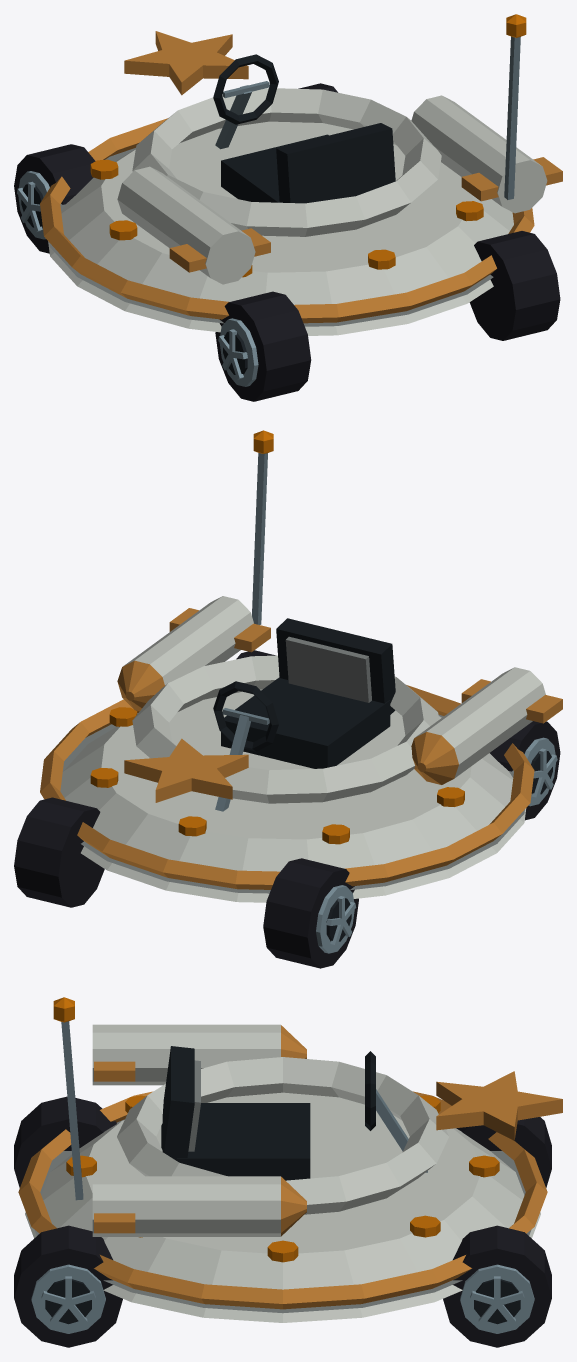
The model's file is kart.glb.
The picture shows the model from 3 angles, top to bottom: view 1: azimuth 30°, elevation 25°; view 2: azimuth 150°, elevation 25°; view 3: azimuth 270°, elevation 25°; orthographic projection. The views are drawn at different scales.
Visible parts, largest first — view 1: identity-saucer-saucer-double-rim, identity-saucer-motif-rocket, identity-saucer-driver-cockpit, wheel-rear-left, wheel-rear-right, wheel-front-left, identity-saucer-motif-star, identity-saucer-motif-antenna; view 2: identity-saucer-saucer-double-rim, identity-saucer-driver-cockpit, identity-saucer-motif-rocket, wheel-front-left, wheel-front-right, identity-saucer-motif-star, wheel-rear-left, identity-saucer-motif-antenna; view 3: identity-saucer-saucer-double-rim, identity-saucer-motif-rocket, identity-saucer-driver-cockpit, wheel-front-right, wheel-rear-right, identity-saucer-motif-star, wheel-rear-left, wheel-front-left, identity-saucer-motif-antenna.
Part boxes in pixels (<box>): identity-saucer-saucer-double-rim: <box>40,88,534,335</box>; identity-saucer-motif-rocket: <box>117,95,562,284</box>; identity-saucer-driver-cockpit: <box>213,54,395,203</box>; wheel-rear-left: <box>215,291,311,401</box>; wheel-rear-right: <box>469,231,560,340</box>; wheel-front-left: <box>14,144,95,253</box>; identity-saucer-motif-star: <box>124,31,248,95</box>; identity-saucer-motif-antenna: <box>504,14,526,199</box>; identity-saucer-saucer-double-rim: <box>40,655,534,902</box>; identity-saucer-driver-cockpit: <box>213,618,395,811</box>; identity-saucer-motif-rocket: <box>117,596,562,784</box>; wheel-front-left: <box>263,858,358,968</box>; wheel-front-right: <box>14,797,104,907</box>; identity-saucer-motif-star: <box>124,738,248,802</box>; wheel-rear-left: <box>490,721,560,820</box>; identity-saucer-motif-antenna: <box>252,430,273,624</box>; identity-saucer-saucer-double-rim: <box>18,1057,547,1322</box>; identity-saucer-motif-rocket: <box>92,1024,306,1236</box>; identity-saucer-driver-cockpit: <box>161,1046,427,1180</box>; wheel-front-right: <box>443,1225,551,1347</box>; wheel-rear-right: <box>14,1225,122,1347</box>; identity-saucer-motif-star: <box>436,1071,562,1140</box>; wheel-rear-left: <box>14,1096,116,1187</box>; wheel-front-left: <box>456,1117,551,1187</box>; identity-saucer-motif-antenna: <box>53,997,83,1200</box>.
Size of the model in its own units: 2.42 by 1.72 by 2.51.
